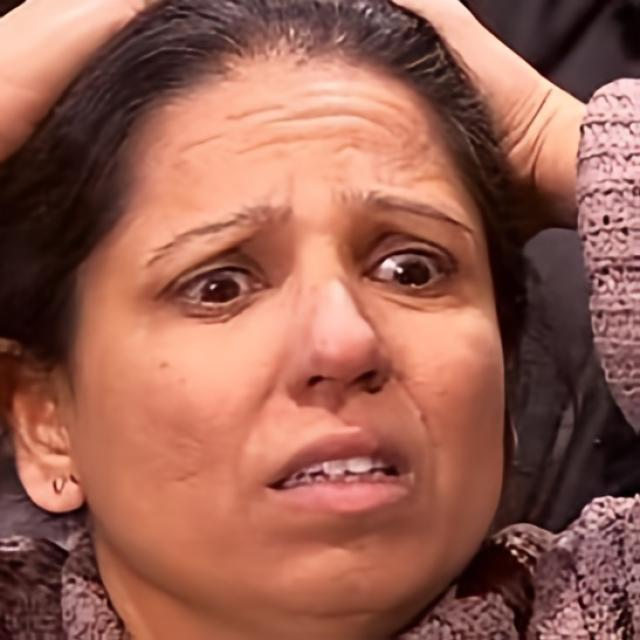Fear: (82, 65, 508, 622)
